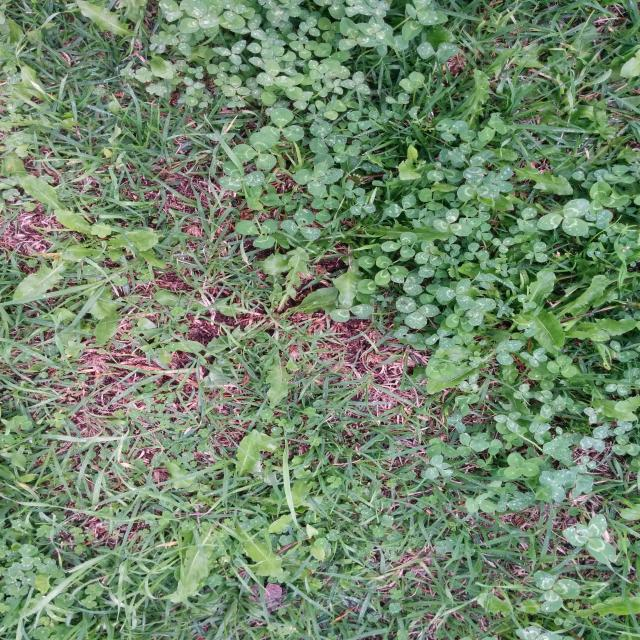Four Leaf Clover: (292, 162, 344, 196), (520, 347, 548, 367)
